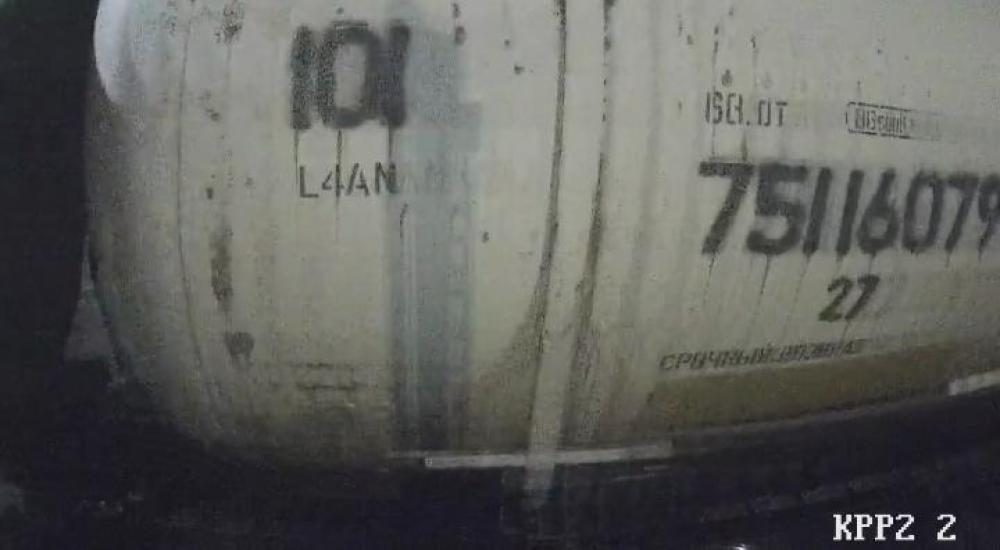Wagon-number: (696, 151, 1000, 263)
